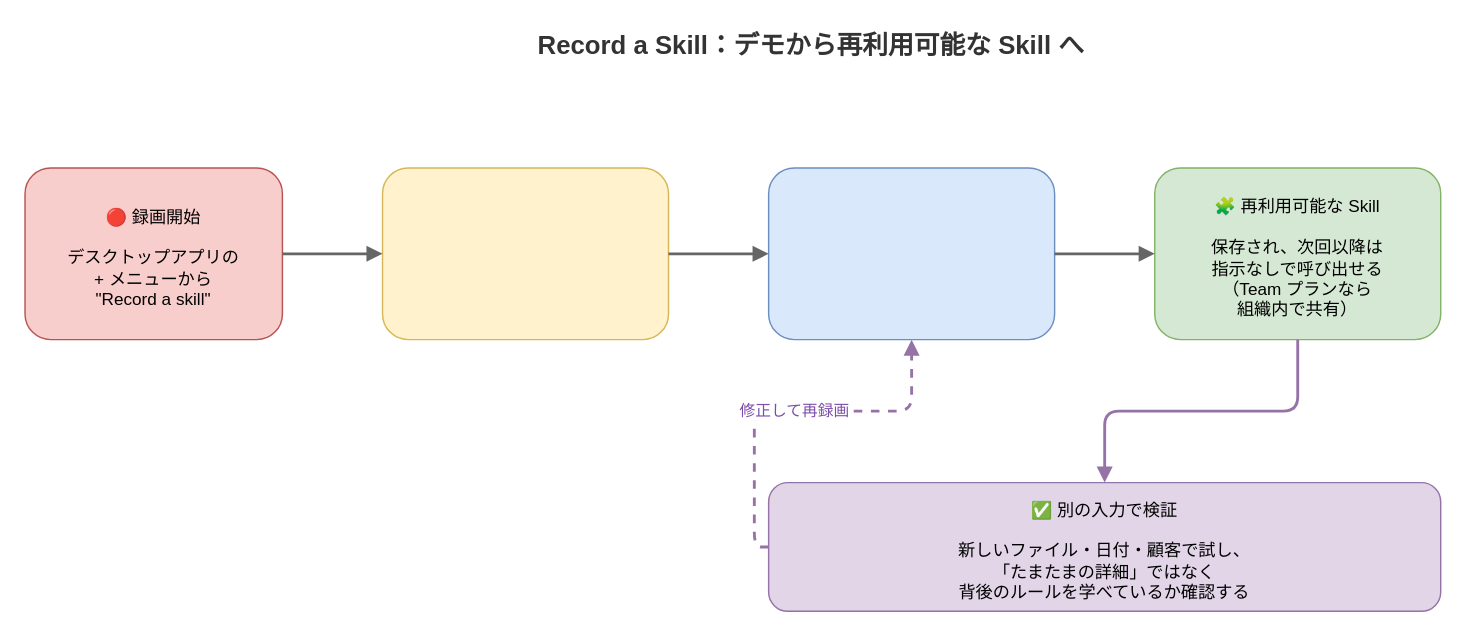
The diagram is 1466 pixels wide and 636 high, and some of its shapes have lost their labels. The centre of each missing label's shape, as x and y in pixels:
🗣️ 作業＋ナレーション いつも通り作業しながら ・何を確認しているか ・なぜこの順番か ・例外ルール を声で説明: (525,253)
🧠 Claude が合成 画面操作＋意図の説明を 手順・ルール・例外として 構造化し、Agent Skill 形式にまとめる: (911,253)
